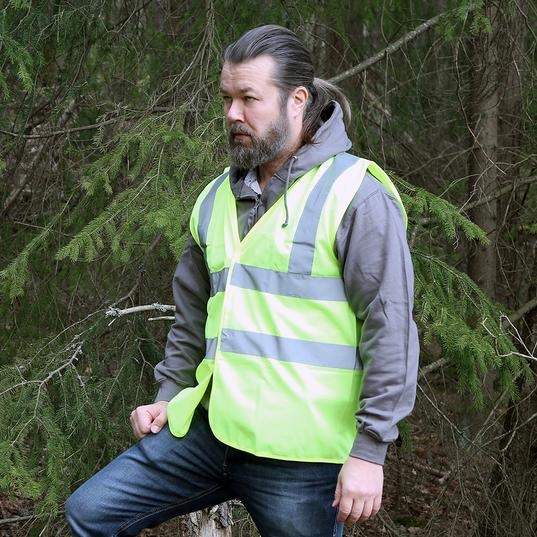person with partial safety: (110, 26, 416, 537)
safety vest: (180, 156, 386, 467)
